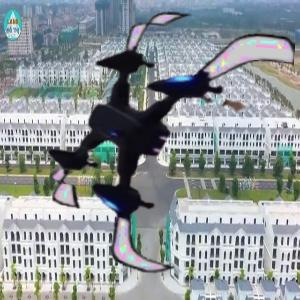drone: (17, 6, 290, 279)
